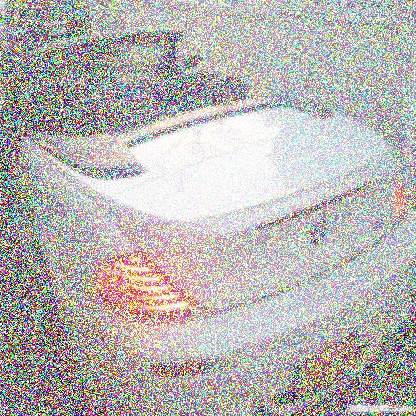Vehicle: (1, 26, 415, 416)
